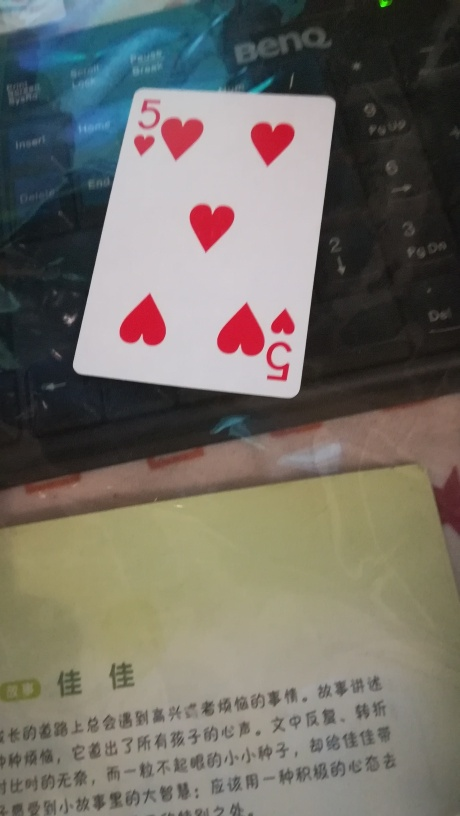hx 5: (70, 86, 338, 399)
